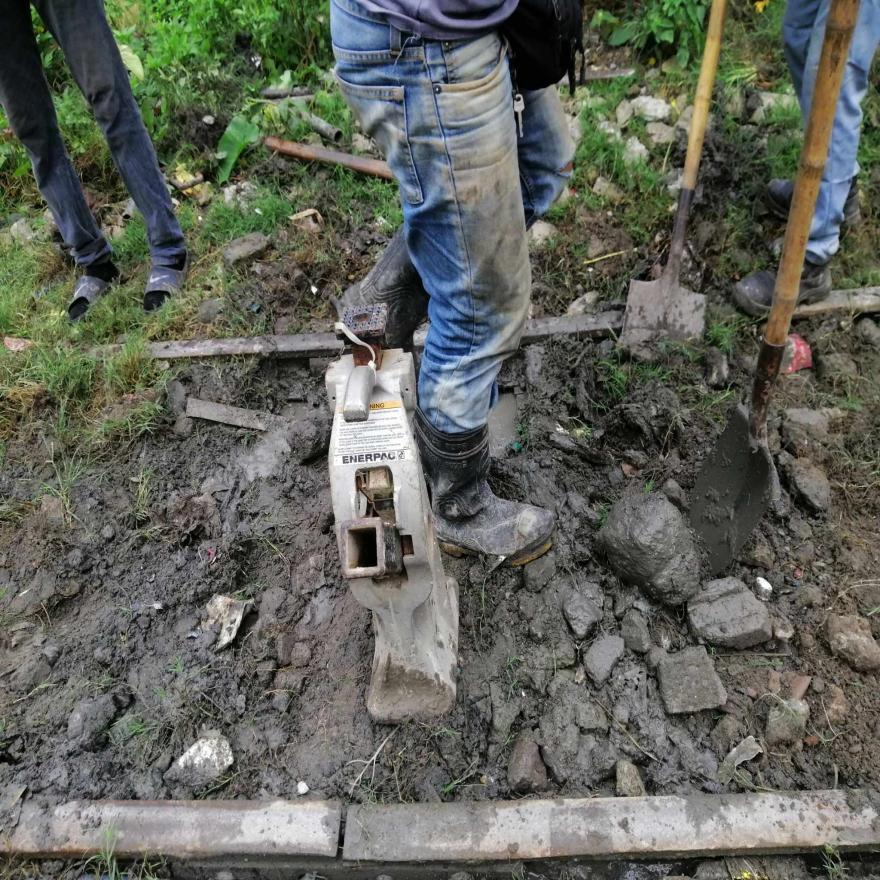railway-gap: (292, 764, 388, 880)
